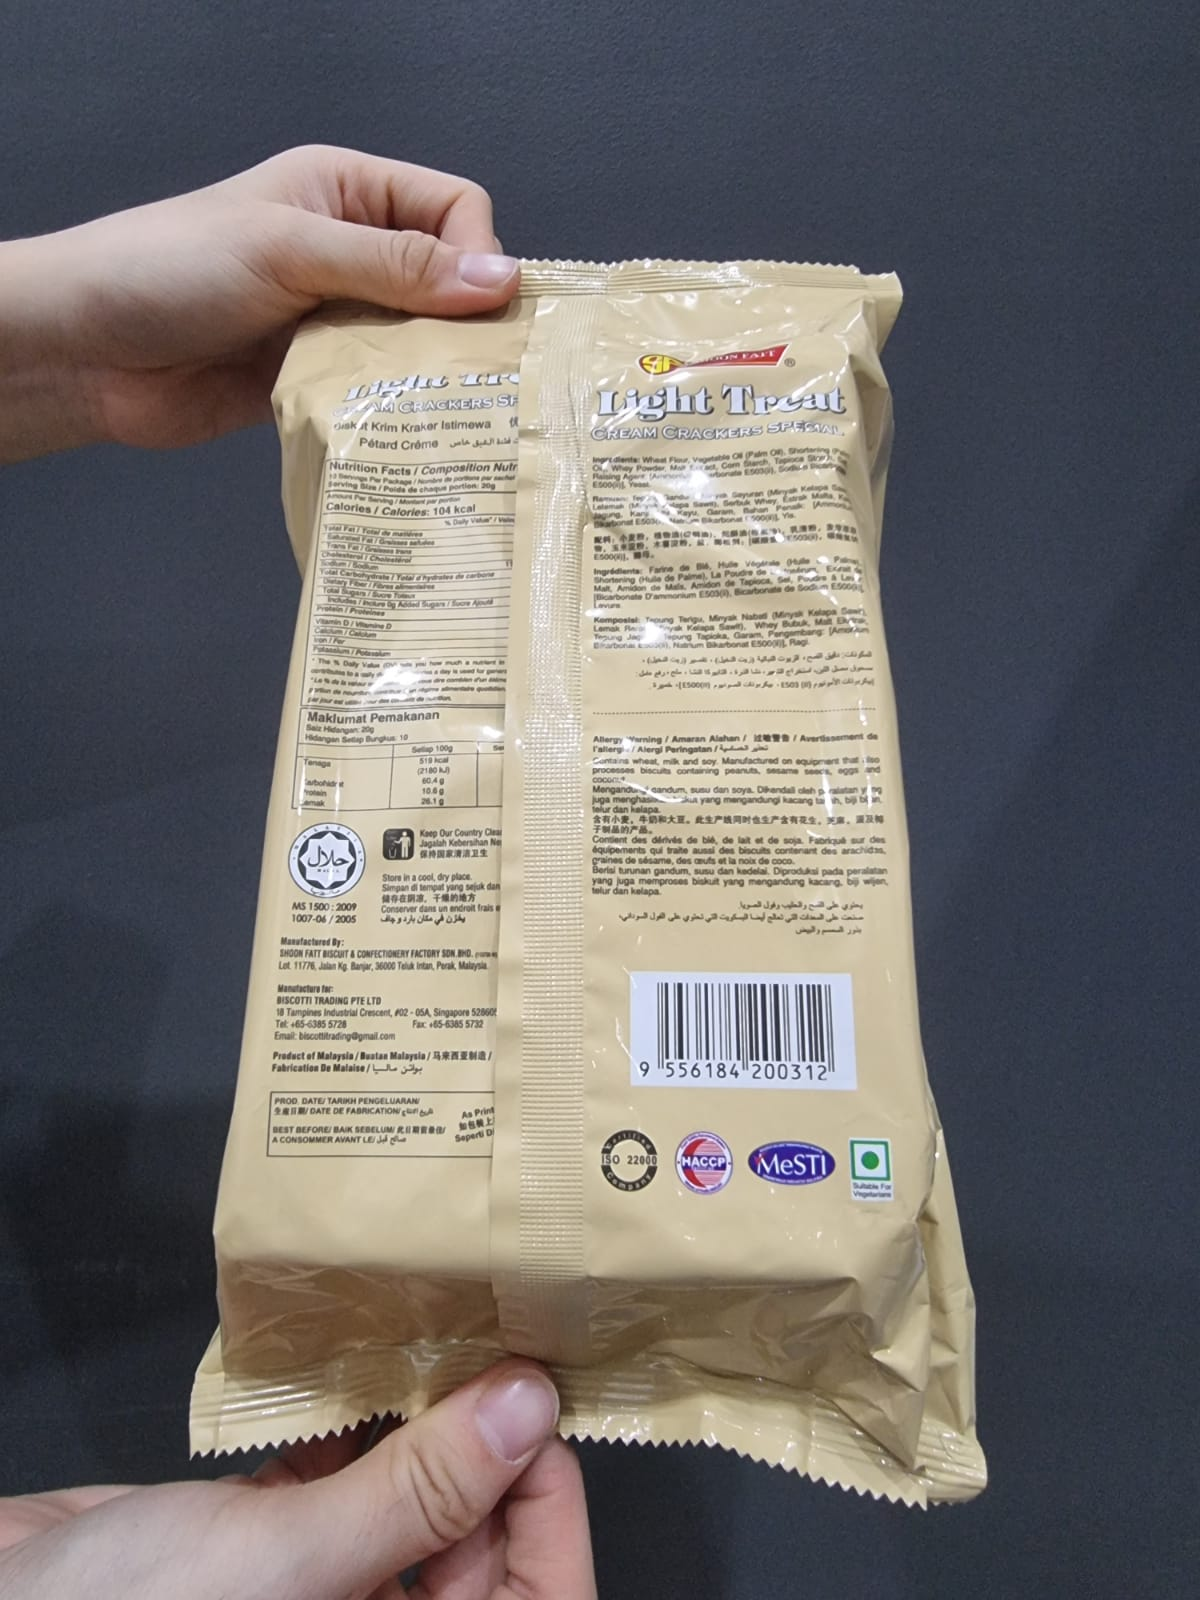Halal: (284, 823, 366, 894)
